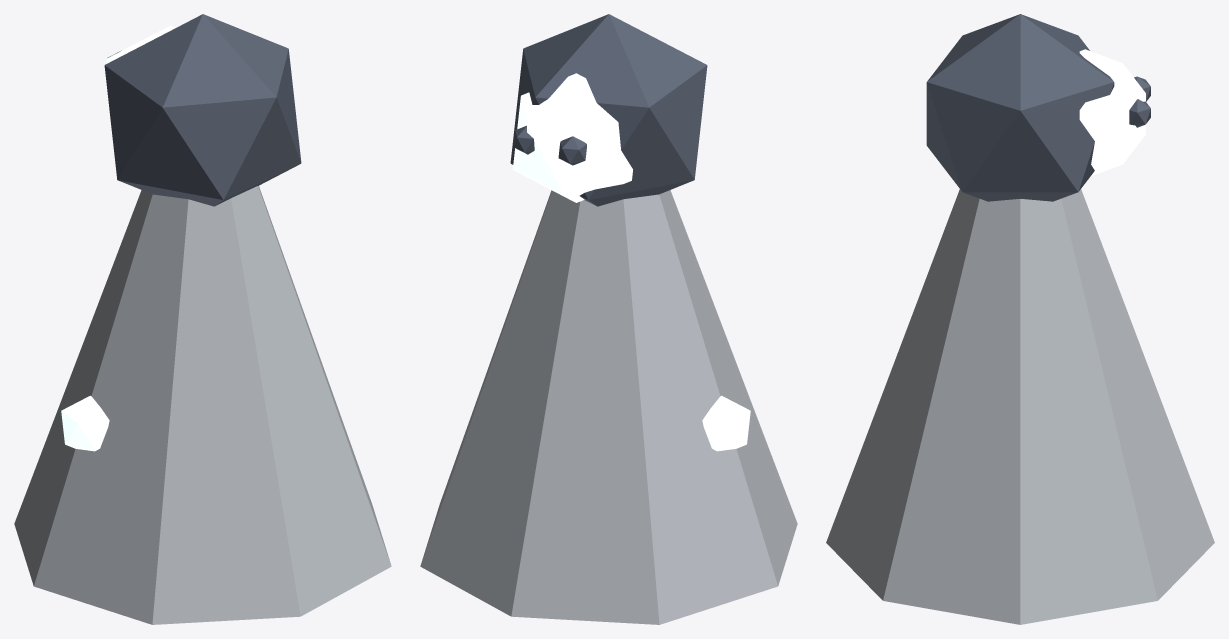
Rendered from wraith.glb.
3 views of the same model, side by side, from view 1: azimuth 30°, elevation 25°; view 2: azimuth 150°, elevation 25°; view 3: azimuth 270°, elevation 25° (orthographic).
Parts seen in each view (by area): view 1: wraith; view 2: wraith; view 3: wraith.
Boxes of the visible parts, left/top/right/bottom form: wraith: left=14, top=14, right=391, bottom=624; wraith: left=420, top=14, right=797, bottom=624; wraith: left=826, top=14, right=1214, bottom=624.
Size of the model in its own units: 0.6 by 0.9 by 0.6.
